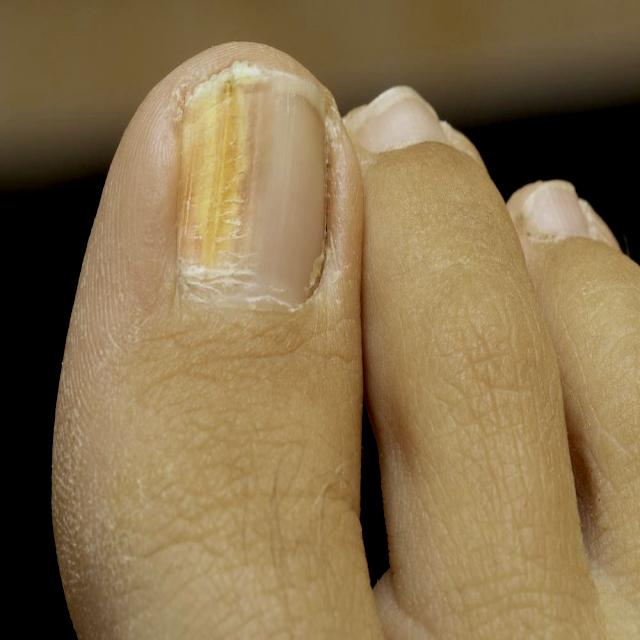diabetes: (178, 85, 329, 306)
